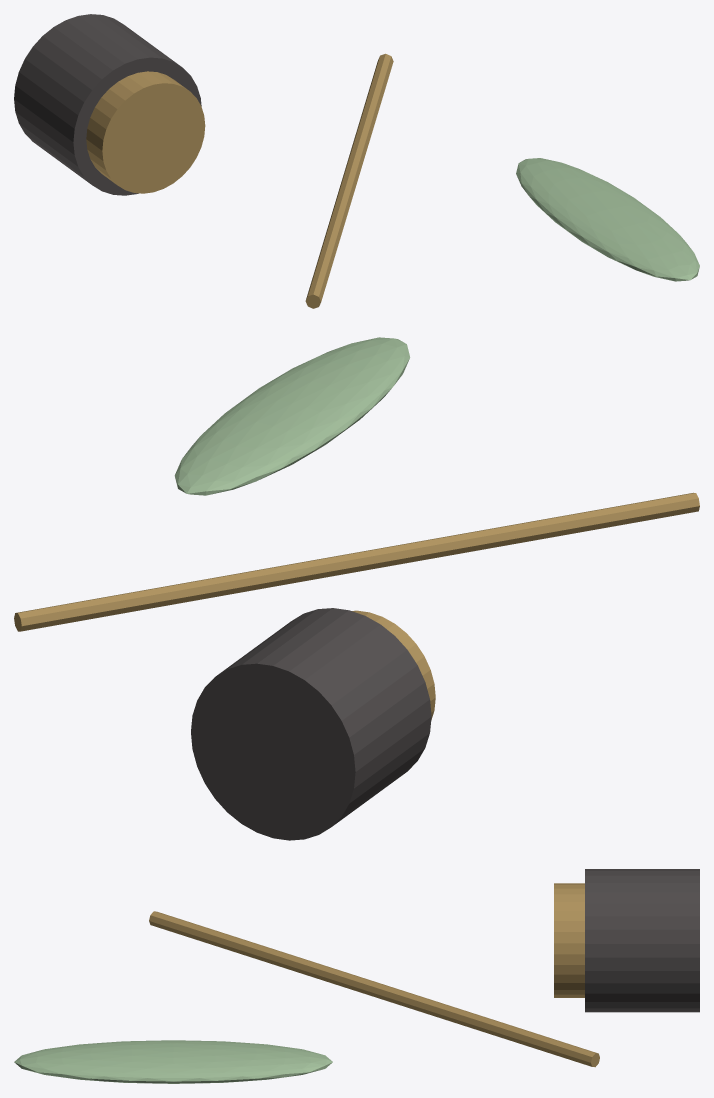
File: prop_bottom_ink_quill.glb
3 views of the same model, one above another, from view 1: azimuth 30°, elevation 25°; view 2: azimuth 150°, elevation 25°; view 3: azimuth 270°, elevation 25° (orthographic). The views are drawn at different scales.
Visible parts, largest first — view 1: prop_bottom_ink_quill_black_ink_bottle, prop_bottom_ink_quill_tiny_brass_cap, prop_bottom_ink_quill_sage_feather, prop_bottom_ink_quill_slender_quill_stem; view 2: prop_bottom_ink_quill_black_ink_bottle, prop_bottom_ink_quill_sage_feather, prop_bottom_ink_quill_slender_quill_stem, prop_bottom_ink_quill_tiny_brass_cap; view 3: prop_bottom_ink_quill_black_ink_bottle, prop_bottom_ink_quill_sage_feather, prop_bottom_ink_quill_slender_quill_stem, prop_bottom_ink_quill_tiny_brass_cap.
Boxes of the visible parts, x1,y1,x2,y2 form: prop_bottom_ink_quill_black_ink_bottle: (14,14,201,195); prop_bottom_ink_quill_tiny_brass_cap: (86,71,205,193); prop_bottom_ink_quill_sage_feather: (516,158,699,281); prop_bottom_ink_quill_slender_quill_stem: (305,53,393,308); prop_bottom_ink_quill_black_ink_bottle: (191,608,431,840); prop_bottom_ink_quill_sage_feather: (174,337,410,495); prop_bottom_ink_quill_slender_quill_stem: (14,492,699,631); prop_bottom_ink_quill_tiny_brass_cap: (352,610,435,719); prop_bottom_ink_quill_black_ink_bottle: (585,869,699,1012); prop_bottom_ink_quill_sage_feather: (14,1040,332,1083); prop_bottom_ink_quill_slender_quill_stem: (149,911,599,1067); prop_bottom_ink_quill_tiny_brass_cap: (554,883,584,997).
Bounding box in the file's own units: 0.3386 × 0.12 × 0.5734.
